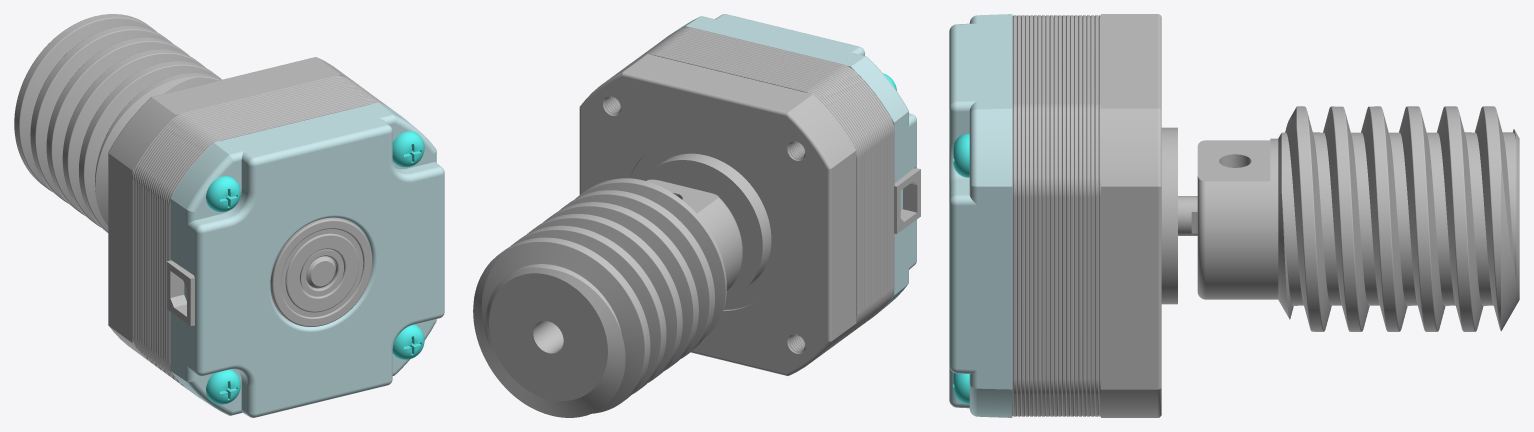
The model's file is axlemount_motor_isolation.x_t.glb.
3 views of the same model, side by side, from view 1: azimuth 30°, elevation 25°; view 2: azimuth 150°, elevation 25°; view 3: azimuth 270°, elevation 25° (orthographic). The views are drawn at different scales.
Bounding box in the file's own units: 0.043 × 0.0426 × 0.0709.
